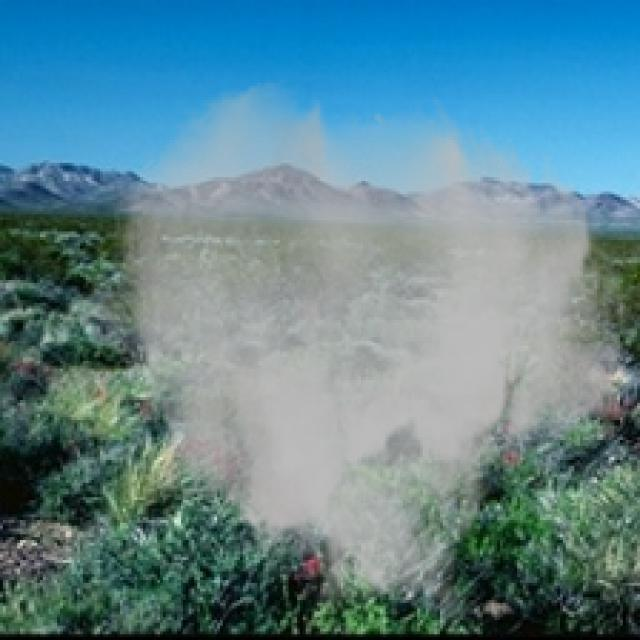Smoke: (79, 77, 632, 632)
